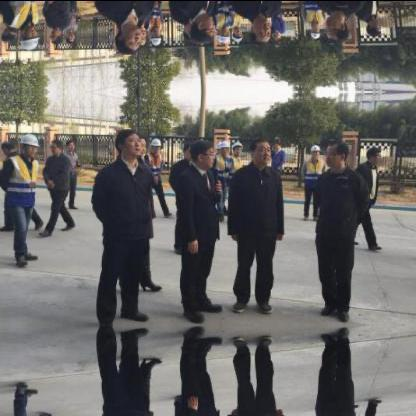Helmet: (17, 24, 41, 51), (17, 130, 41, 156), (148, 134, 162, 156), (230, 136, 244, 158), (148, 25, 162, 46), (230, 22, 244, 43), (307, 142, 319, 160), (307, 20, 319, 38), (219, 138, 229, 154), (219, 26, 229, 42)
No Helmet: (114, 126, 144, 160), (114, 21, 144, 53), (183, 136, 213, 166), (183, 14, 213, 44), (323, 134, 347, 170), (323, 10, 347, 46), (249, 134, 270, 164), (249, 16, 270, 46), (366, 142, 380, 164), (46, 136, 63, 154), (46, 26, 63, 44), (366, 17, 380, 38), (65, 137, 75, 151), (65, 29, 75, 43)
